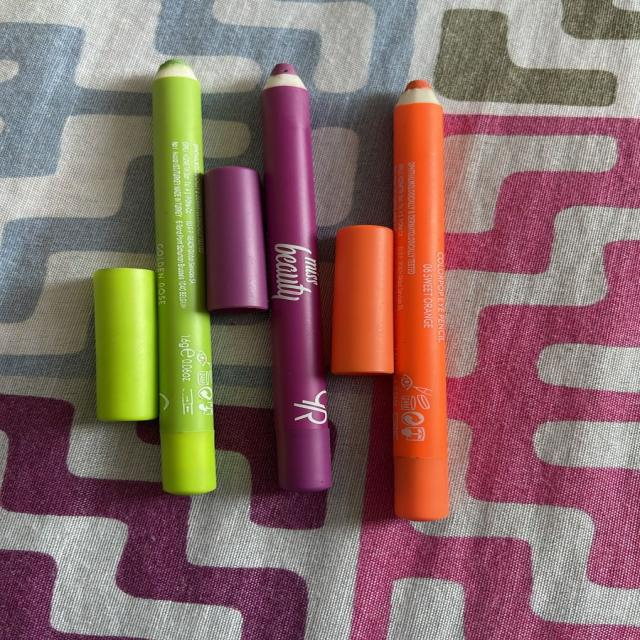lip liner: (126, 36, 500, 527)
